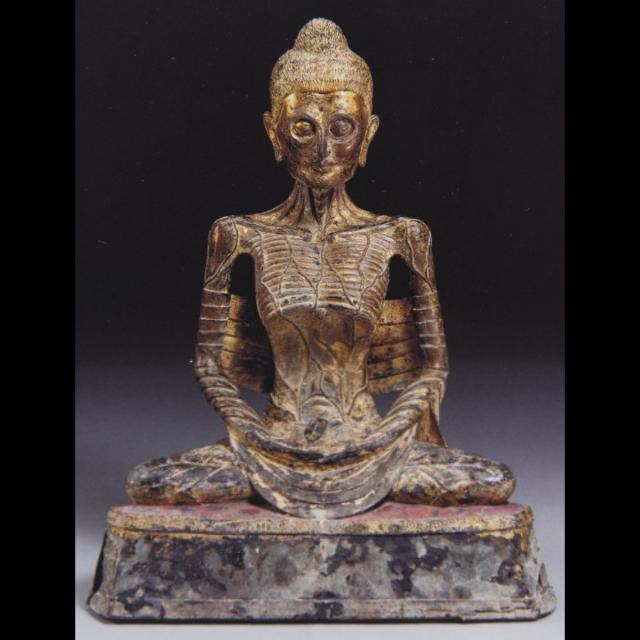buddha-sitting: (88, 19, 555, 620)
